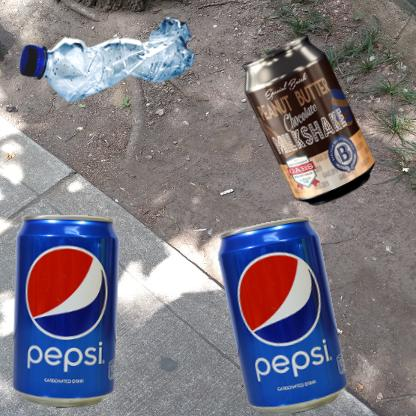botella: (10, 10, 206, 110)
lata: (213, 10, 416, 284), (213, 213, 364, 416), (10, 213, 122, 412)
